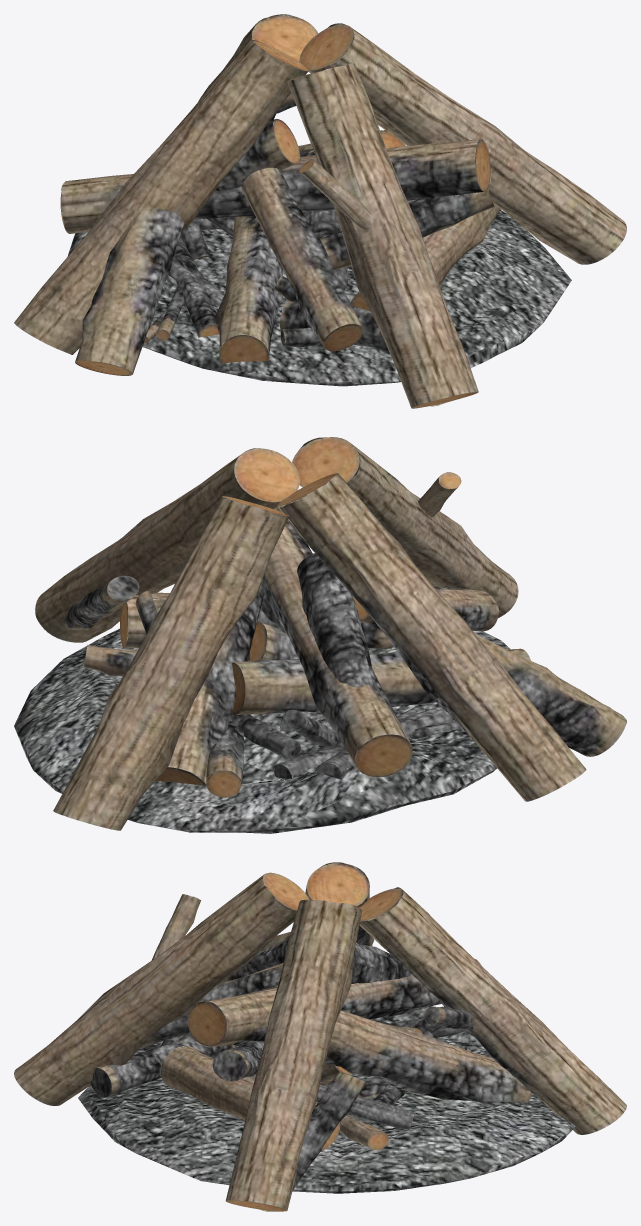
File: fire_logs.glb
3 views of the same model, one above another, from view 1: azimuth 30°, elevation 25°; view 2: azimuth 150°, elevation 25°; view 3: azimuth 270°, elevation 25° (orthographic). The views are drawn at different scales.
Visible parts, largest first — view 1: CampFireWood_CfWood_0; view 2: CampFireWood_CfWood_0; view 3: CampFireWood_CfWood_0.
Boxes of the visible parts, x1,y1,x2,y2 form: CampFireWood_CfWood_0: (14,14,626,408); CampFireWood_CfWood_0: (14,437,626,833); CampFireWood_CfWood_0: (14,862,626,1211).
Size of the model in its own units: 149 by 69.53 by 158.
1 material, 1 textured.
